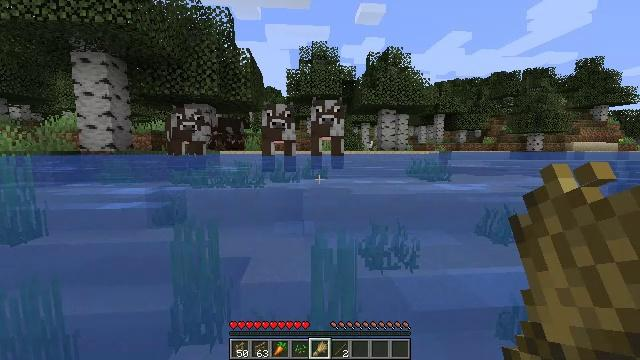cow: (310, 100, 344, 156), (262, 105, 297, 159), (170, 107, 210, 154)
